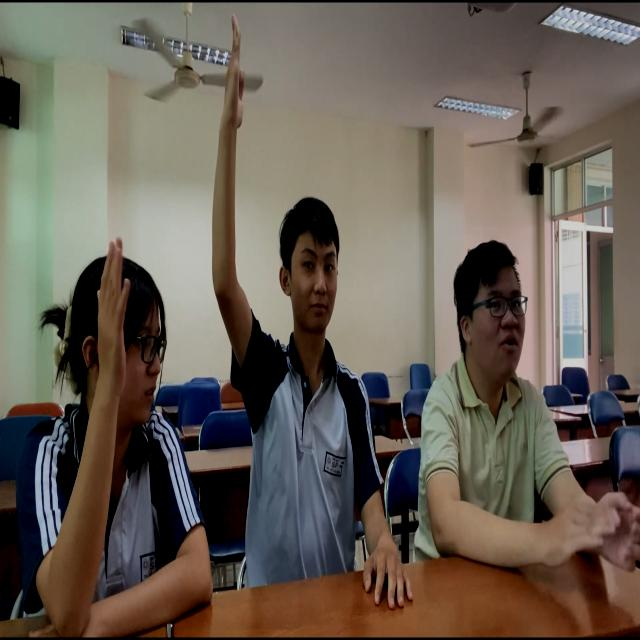raise_hand: (1, 210, 172, 639), (215, 12, 355, 526)
